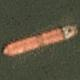ship: (1, 5, 79, 59)
